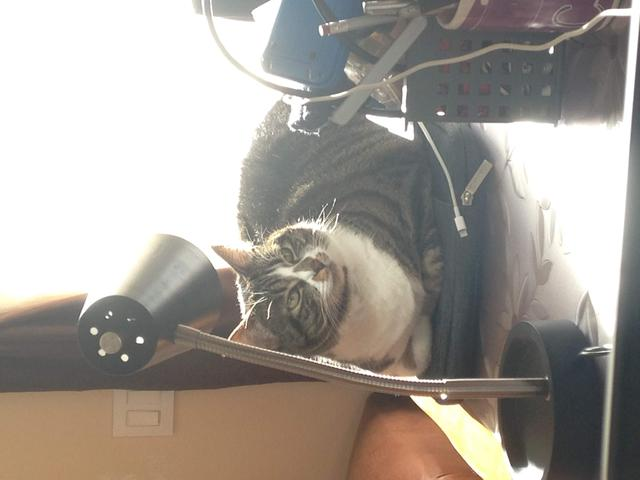playdoh: (210, 86, 433, 379)
